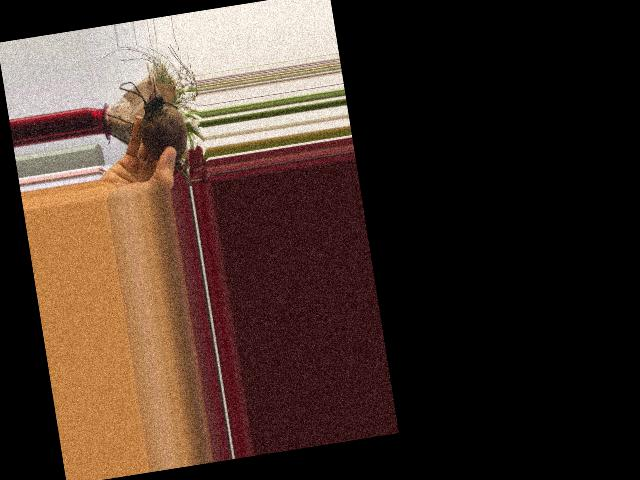beet: (118, 72, 201, 190)
